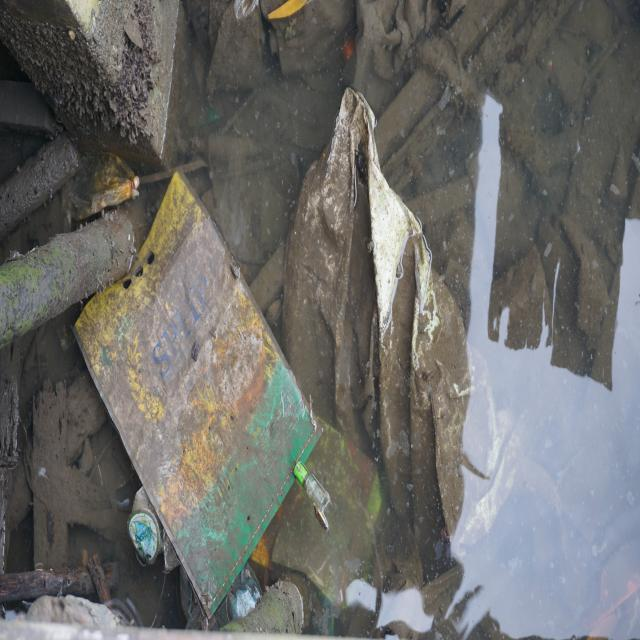Bungkus Makanan: (78, 168, 323, 616)
Bungkus Minuman: (123, 478, 167, 575)
